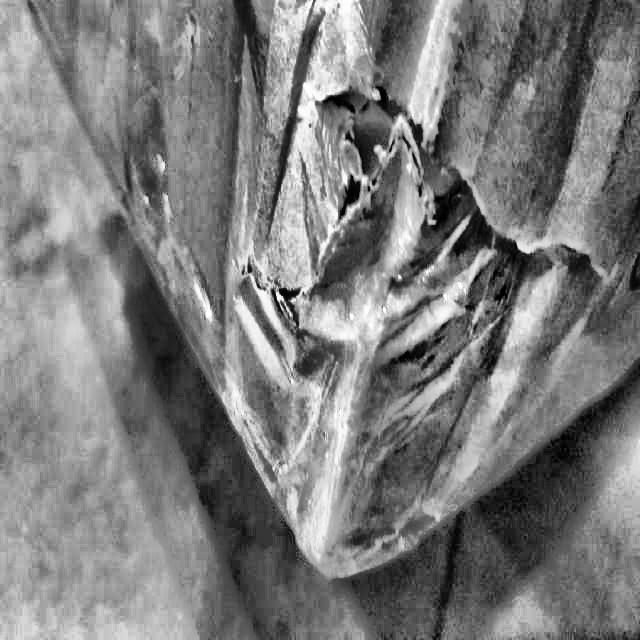box: (13, 0, 639, 605)
hole: (309, 80, 584, 289)
